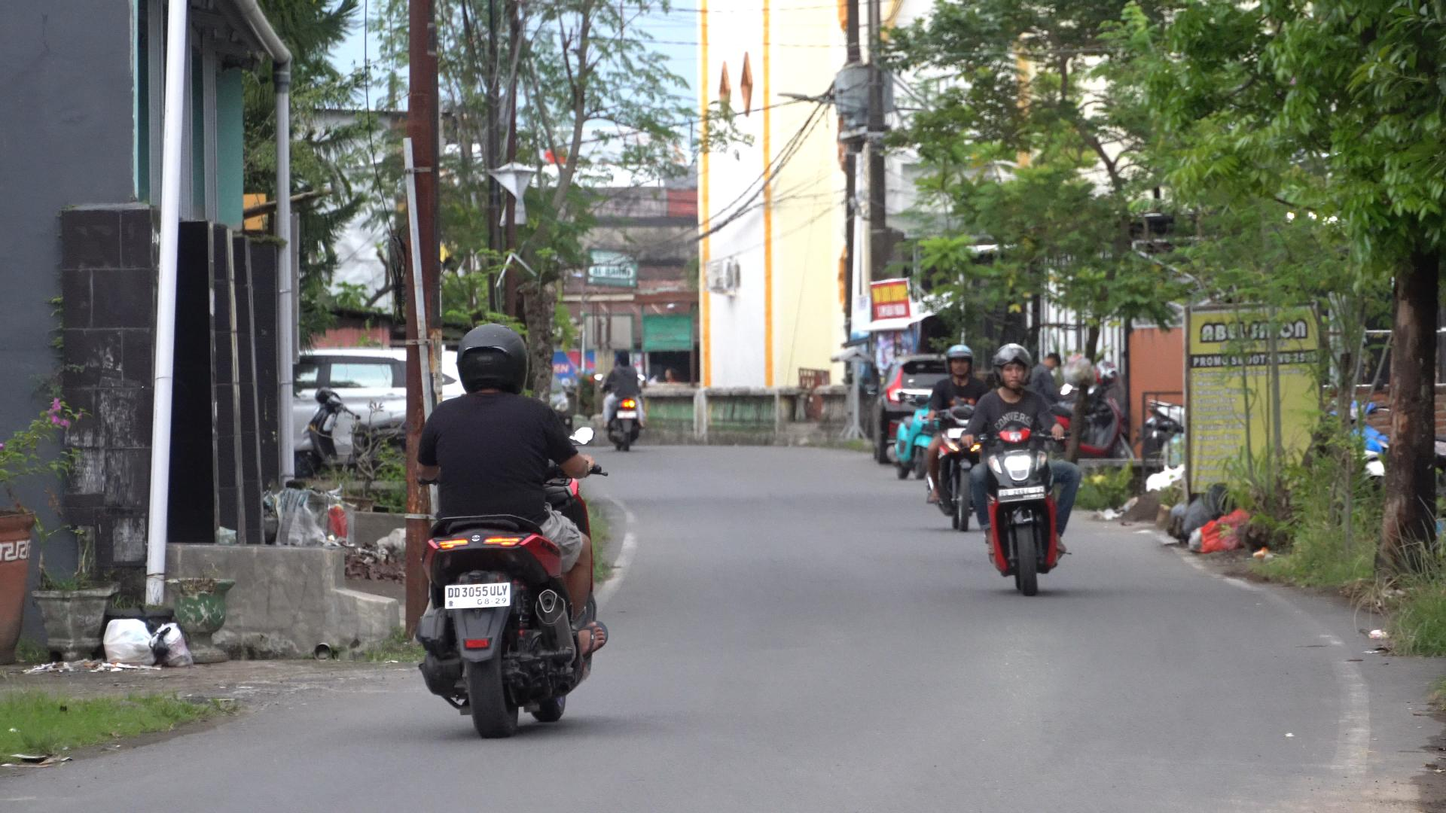number-plate: (994, 485, 1046, 501)
